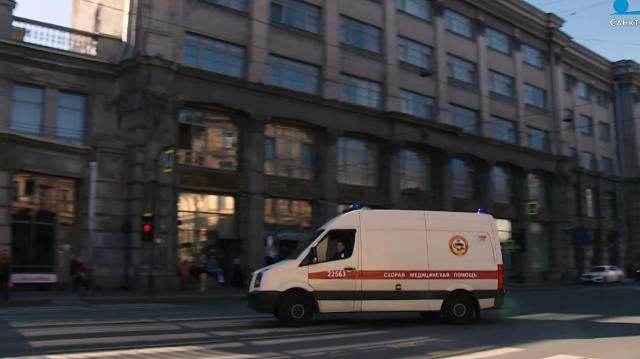ambulance: (244, 205, 504, 328)
non emergency car: (580, 264, 624, 286)
